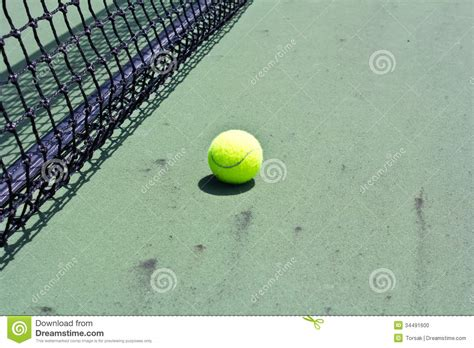tennis_ball: (208, 129, 263, 184)
